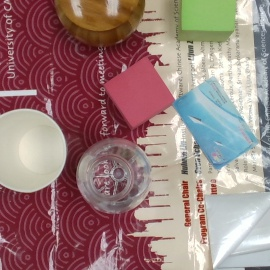bottle: (76, 137, 154, 213)
card: (172, 76, 260, 168)
chess: (55, 1, 148, 45)
cup: (1, 109, 68, 194)
